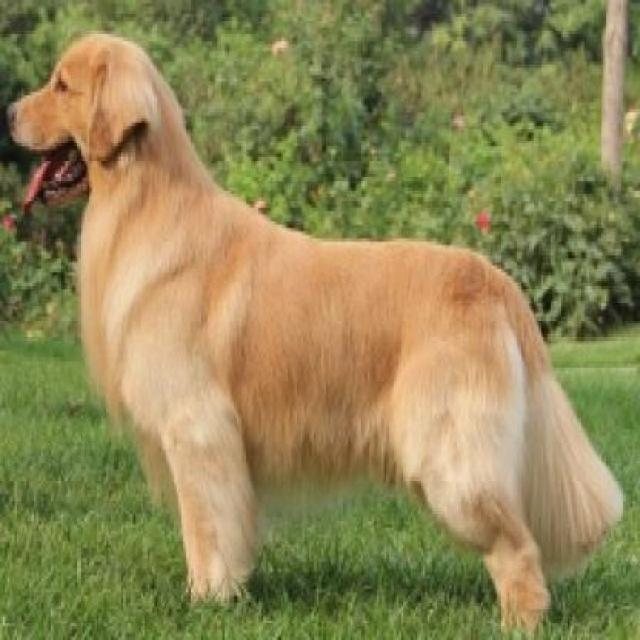Dog: (5, 32, 628, 638)
